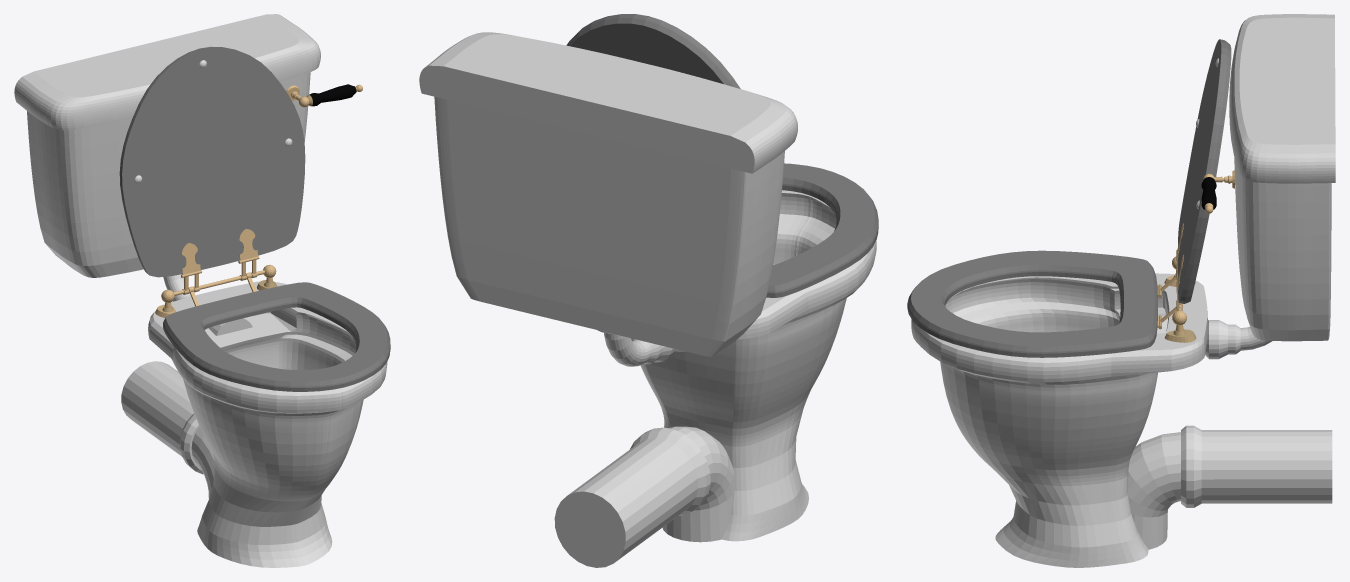
Rendered from toilet.fbx.
3 renders of one model, left to right at view 1: azimuth 30°, elevation 25°; view 2: azimuth 150°, elevation 25°; view 3: azimuth 270°, elevation 25°, orthographic. The views are drawn at different scales.
Parts seen in each view (by area): view 1: toilet; view 2: toilet; view 3: toilet.
Part boxes in pixels (x1,y1,x2,y2): toilet: (14, 14, 390, 567); toilet: (419, 14, 878, 567); toilet: (907, 14, 1335, 567).
Bounding box in the file's own units: 1.13 × 1.64 × 1.29.
